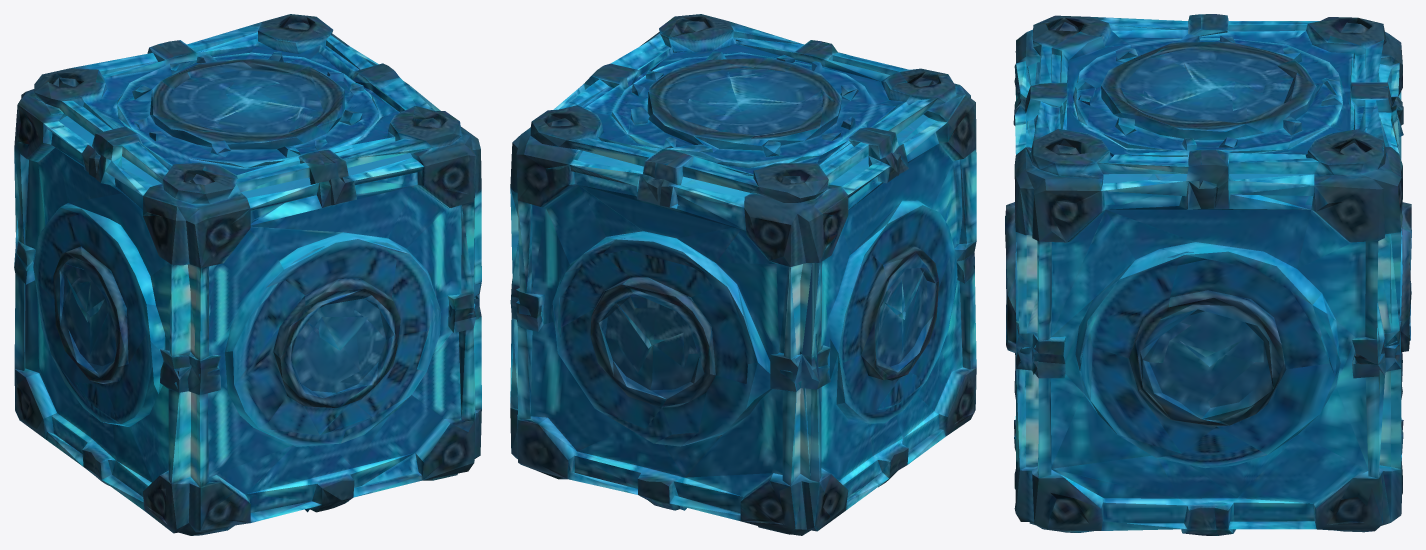
The model's file is mx_chrono_cube.glb.
3 renders of one model, left to right at view 1: azimuth 30°, elevation 25°; view 2: azimuth 150°, elevation 25°; view 3: azimuth 270°, elevation 25°, orthographic. The views are drawn at different scales.
Size of the model in its own units: 1.82 by 1.89 by 1.82.
Materials: 1 (1 with a texture image).
